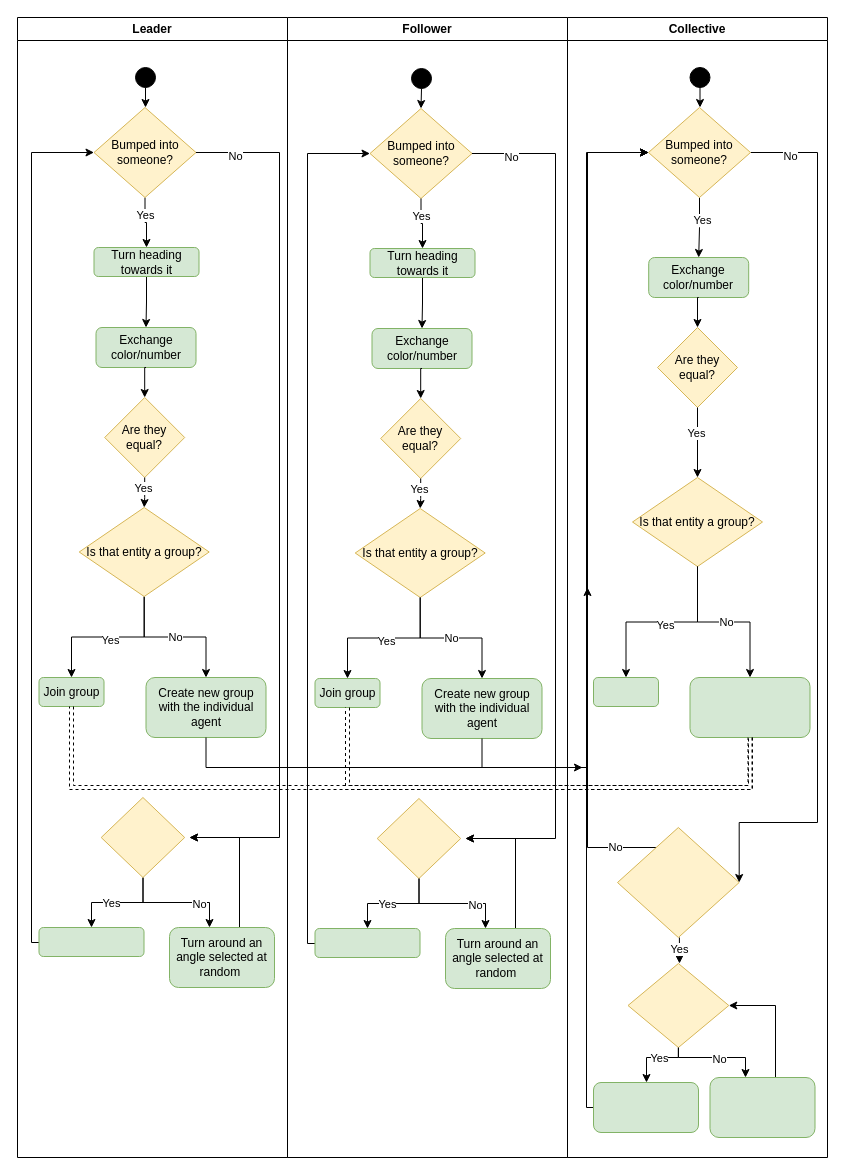
Some shapes in this 845 by 1175 pixel diagram are drawn without their labels. The shapes that lost their labels are listed below. From the top down, each one's centre as x and y in pixels, then its label:
At point 625,691: "Merge groups".
At point 749,707: "Welcome agent".
At point 142,837: "Is there an entity in vision field?".
At point 418,838: "Is there a group in vision field?".
At point 677,882: "Is the number of people on the group less than a specified number?".
At point 91,941: "Move towards the nearest entity".
At point 367,943: "Move towards the nearest group".
At point 678,1005: "Is there a group in the vision field of the leader?".
At point 645,1107: "Move towards the nearest group to the leader".
At point 762,1107: "Leader turns around an angle selected at random".
